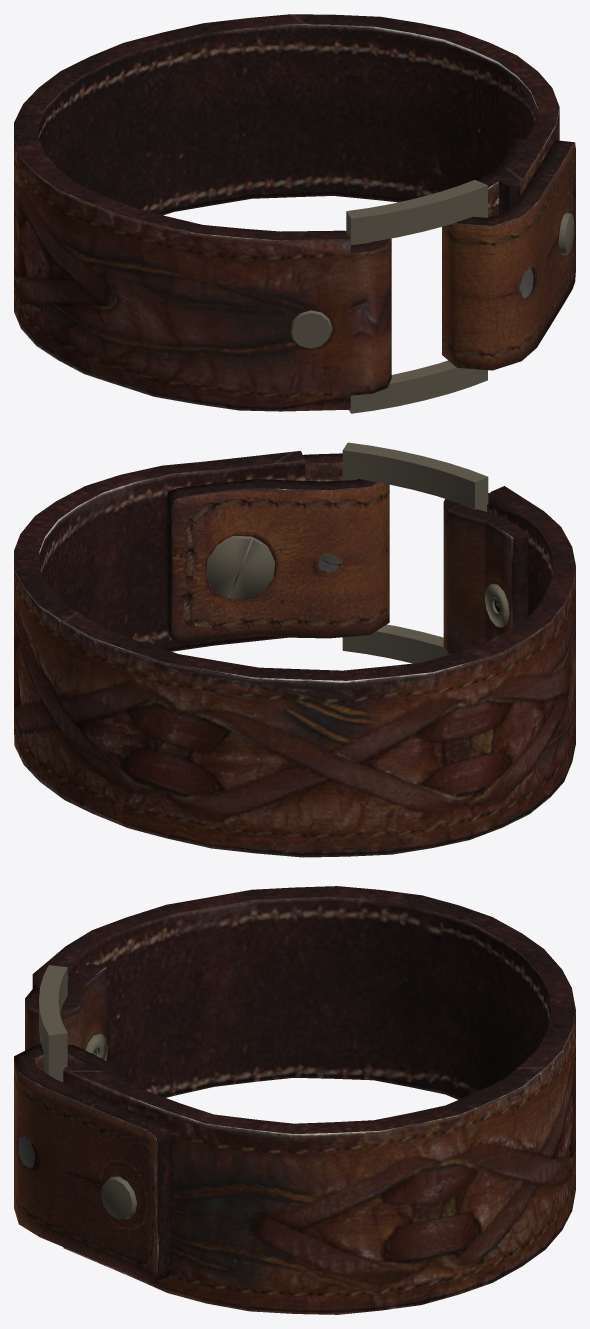
The picture shows the model from 3 angles, top to bottom: view 1: azimuth 30°, elevation 25°; view 2: azimuth 150°, elevation 25°; view 3: azimuth 270°, elevation 25°; orthographic projection. The views are drawn at different scales.
Visible parts, largest first — view 1: Band_Charm, polySurface17; view 2: Band_Charm, polySurface17; view 3: Band_Charm, polySurface17.
Boxes of the visible parts, x1,y1,x2,y2 form: Band_Charm: (14,14,575,411); polySurface17: (290,180,574,413); Band_Charm: (14,451,575,857); polySurface17: (206,442,509,663); Band_Charm: (14,886,575,1314); polySurface17: (39,965,136,1219).
Bounding box in the file's own units: 0.1388 × 0.0538 × 0.1335.
Materials: 2 (1 with a texture image).
